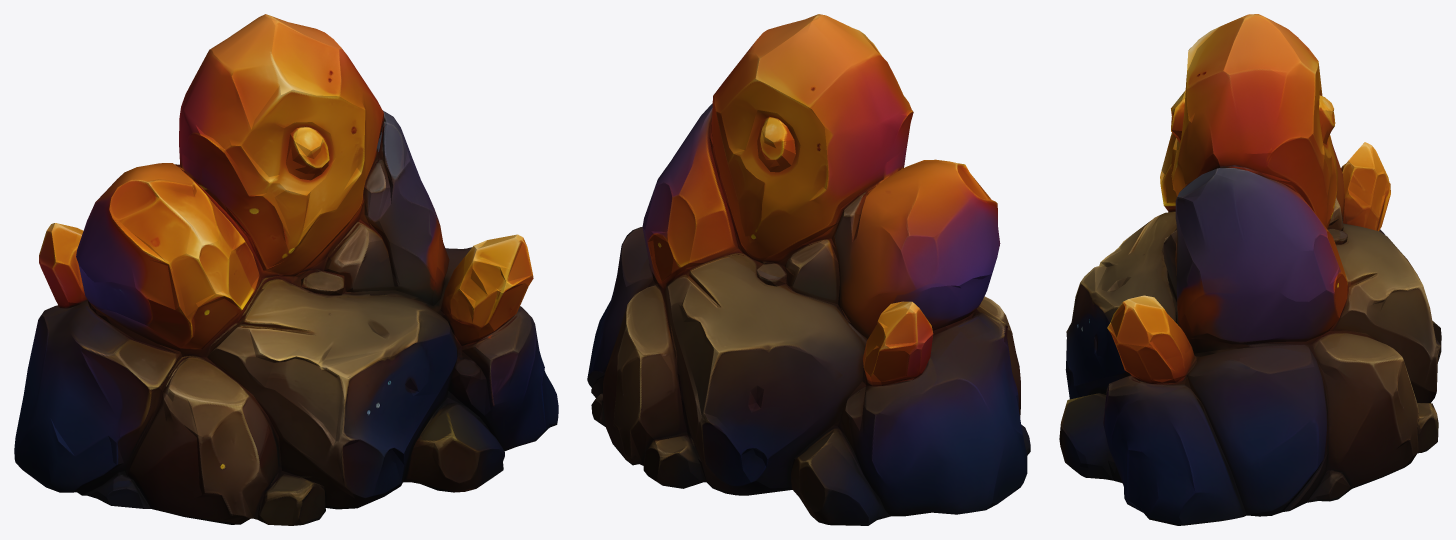
The model's file is SM_Ore02.fbx.
The picture shows the model from 3 angles, left to right: view 1: azimuth 30°, elevation 25°; view 2: azimuth 150°, elevation 25°; view 3: azimuth 270°, elevation 25°; orthographic projection. The views are drawn at different scales.
Visible parts, largest first — view 1: Ore02; view 2: Ore02; view 3: Ore02.
Part boxes in pixels (bbox=[...]): Ore02: bbox=[14, 14, 558, 525]; Ore02: bbox=[587, 14, 1030, 525]; Ore02: bbox=[1059, 14, 1441, 525].
Size of the model in its own units: 120 by 105 by 90.82.
Materials: 1 (1 with a texture image).
